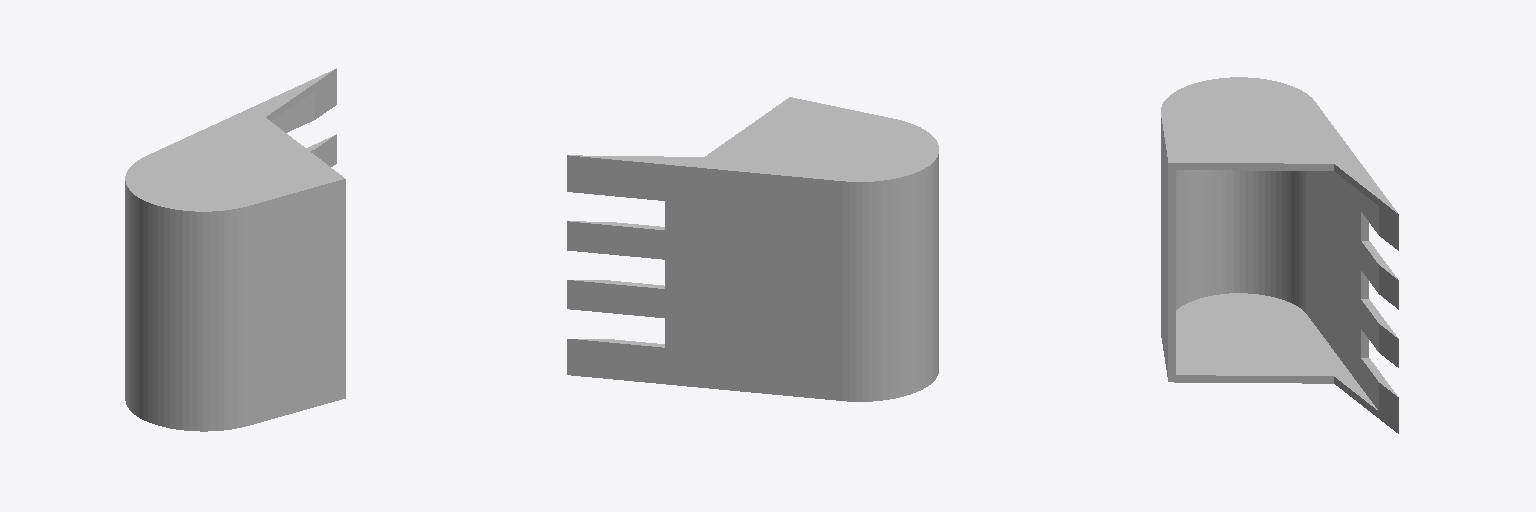
Rendered from Bucket.obj.
The picture shows the model from 3 angles: view 1: azimuth 30°, elevation 25°; view 2: azimuth 150°, elevation 25°; view 3: azimuth 270°, elevation 25°; orthographic projection.
Visible parts, largest first — view 1: Body139; view 2: Body139; view 3: Body139.
Boxes of the visible parts, x1,y1,x2,y2 form: Body139: [125, 68, 345, 431]; Body139: [567, 97, 938, 401]; Body139: [1161, 77, 1398, 433].
Size of the model in its own units: 40.28 by 30 by 29.5.